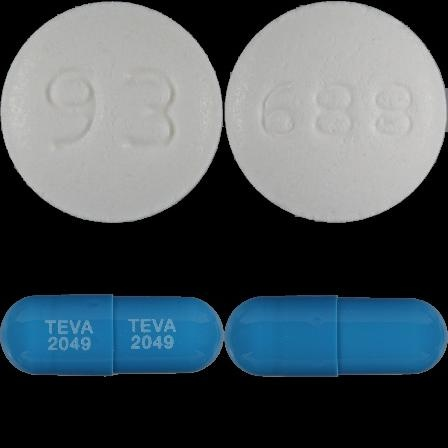68151-4249: (0, 0, 224, 224)
